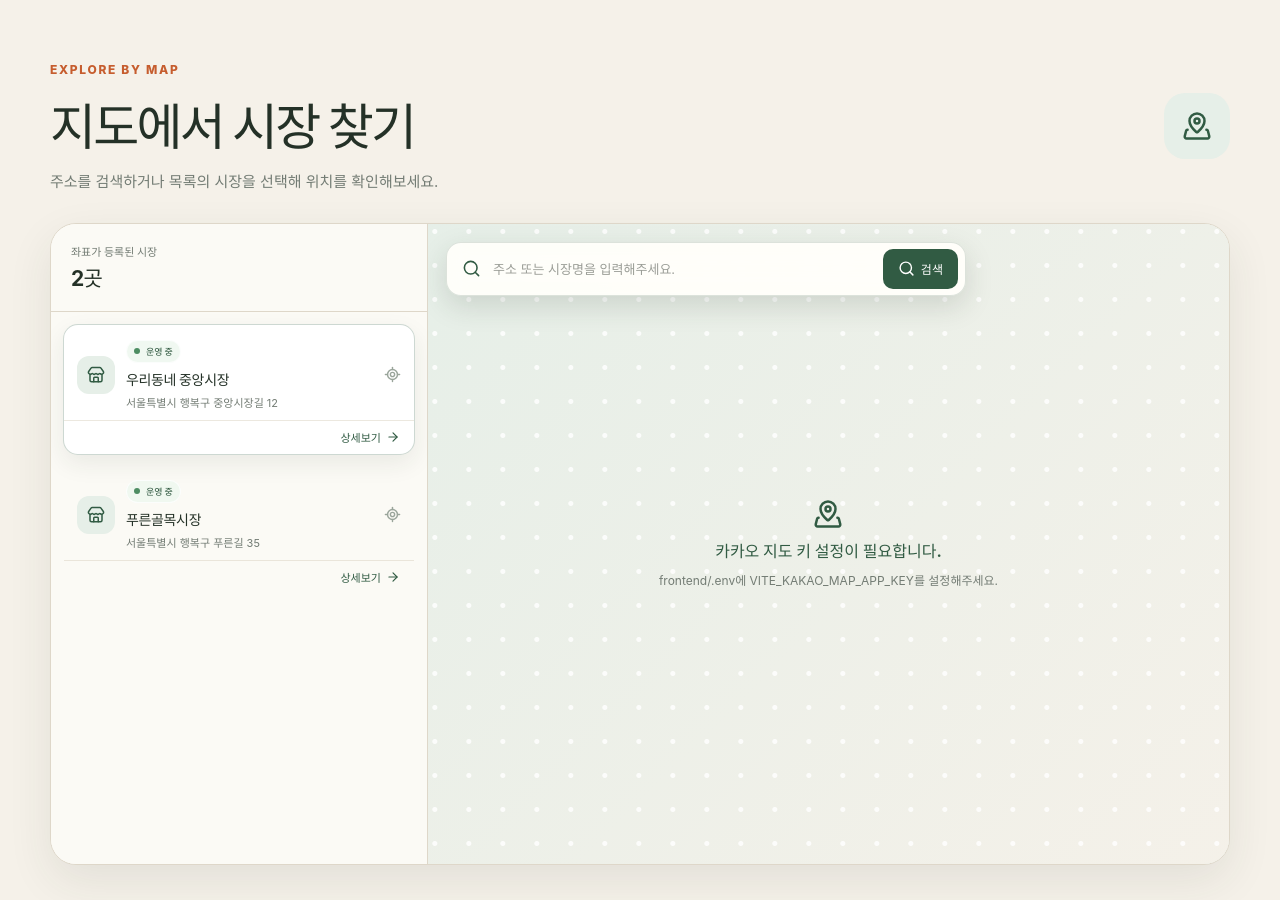
Scenario: MarketMapPage › 시장명으로 검색하면 해당 시장을 선택한다
Expected: the text "푸른골목시장" is shown, x1=126 y1=508 x2=201 y2=528
Type "푸른" into the search field named "주소 또는 시장명 검색" at coordinates (682, 268), box x1=491 y1=248 x2=873 y2=288
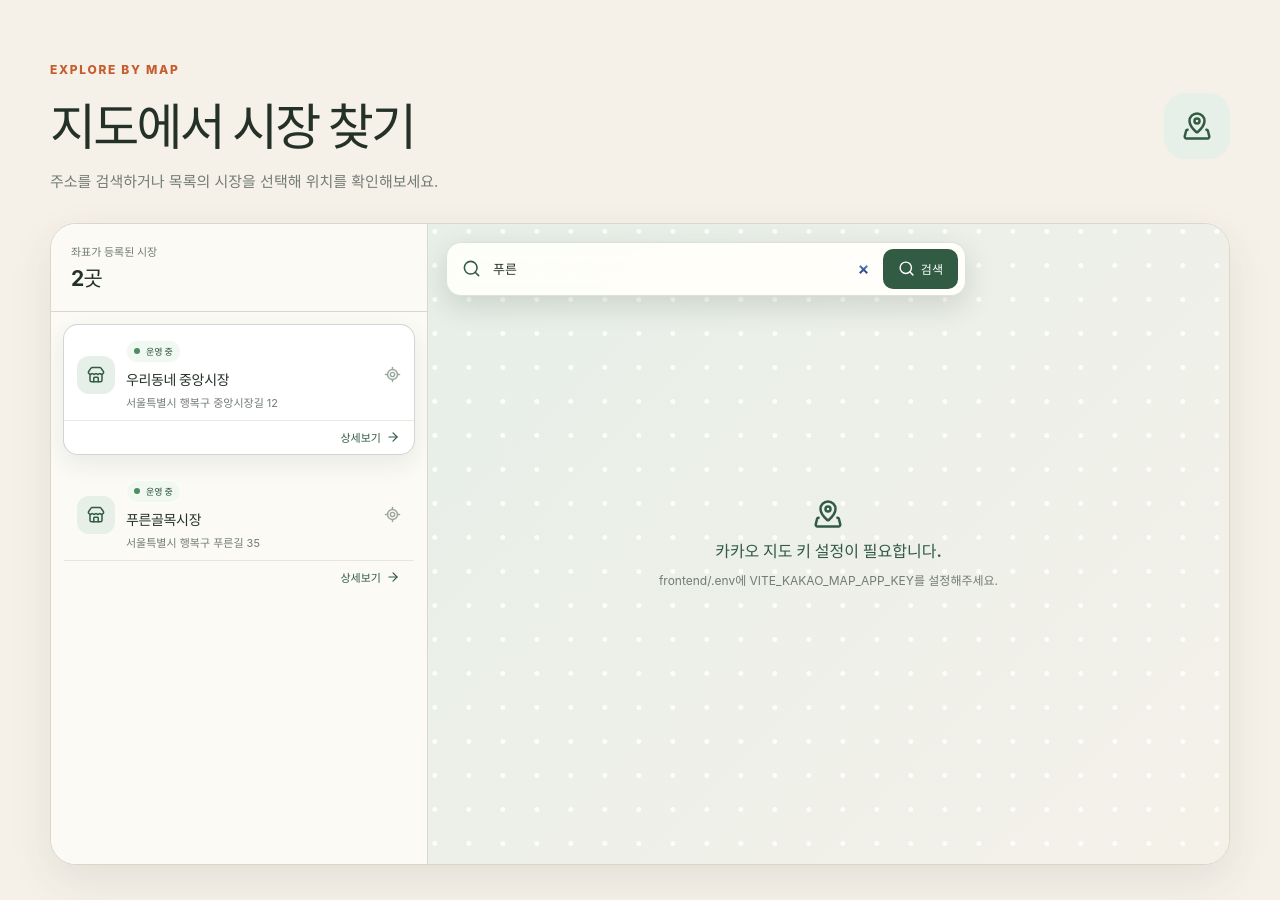
Click the button "검색" at coordinates (920, 268), box x1=883 y1=248 x2=958 y2=288
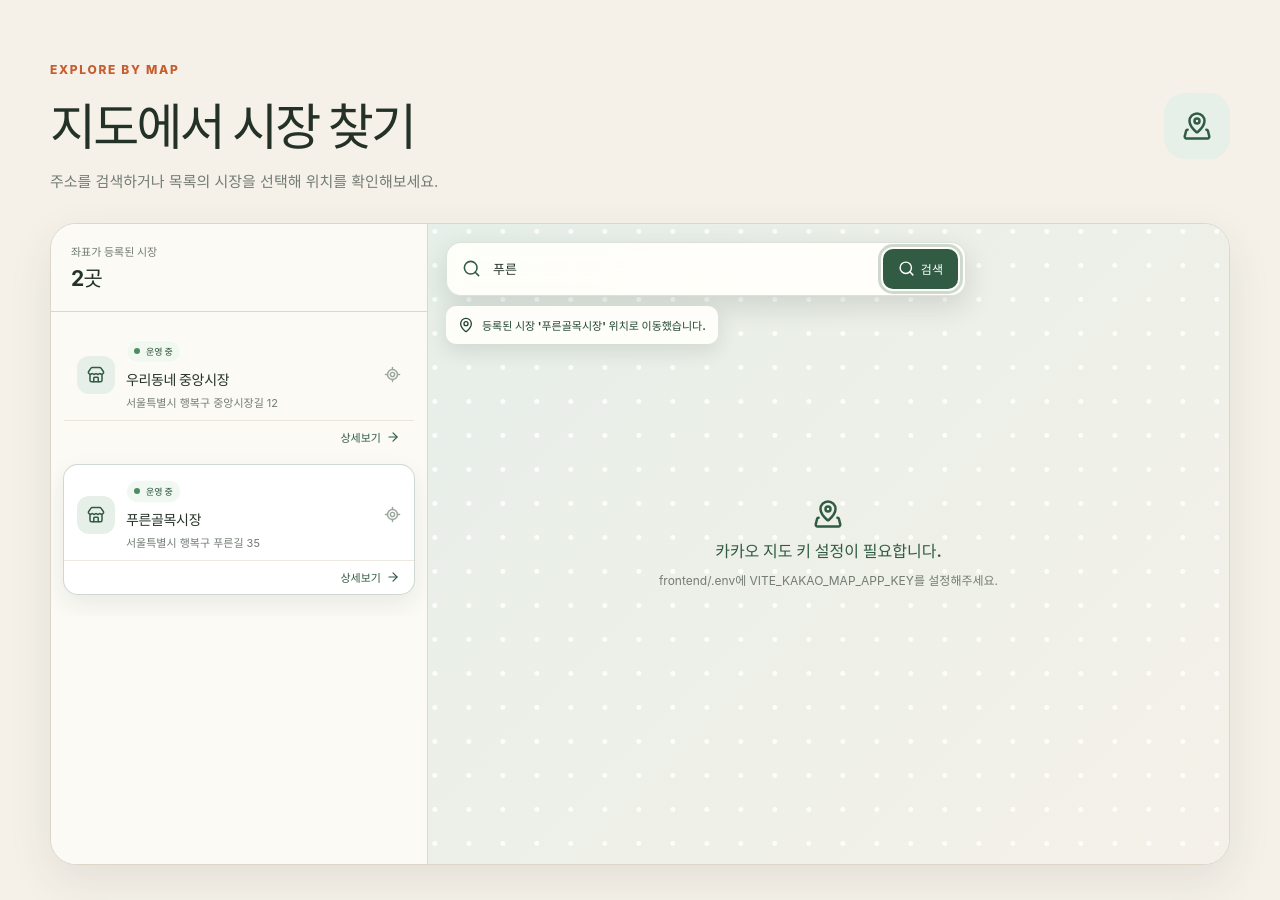
Result: the text "등록된 시장 '푸른골목시장' 위치로 이동했습니다." is shown at x1=482 y1=316 x2=706 y2=332
